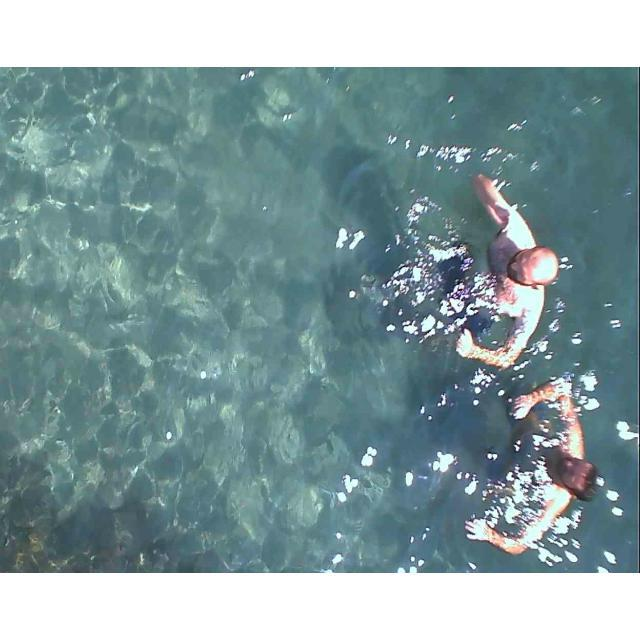human: (470, 373, 594, 572), (462, 163, 557, 385)
